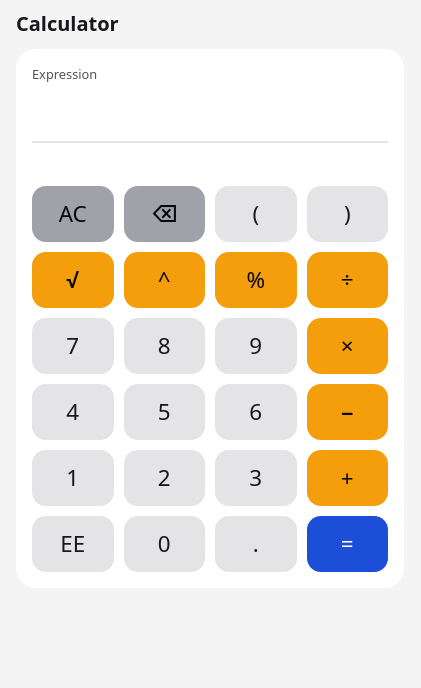
Test: calculation with the keypad › subtract: 10−4
Expected: the button named "equals" is shown, 306,516 -> 388,572
Step 1. Click the button "1" → [73, 478], box 32,450 -> 114,506
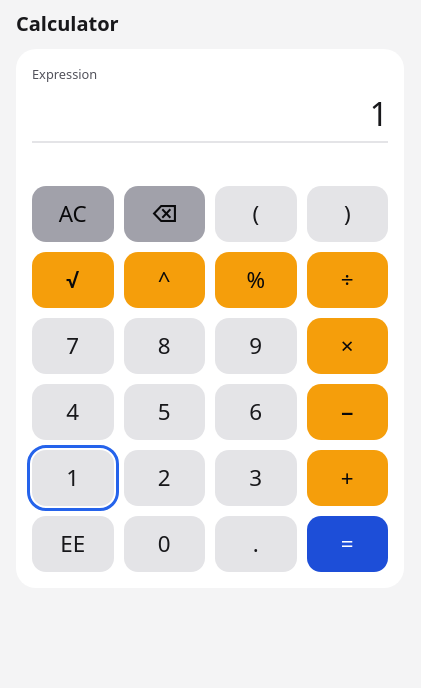
Step 2. Click the button "0" → [164, 544], box 124,516 -> 205,572
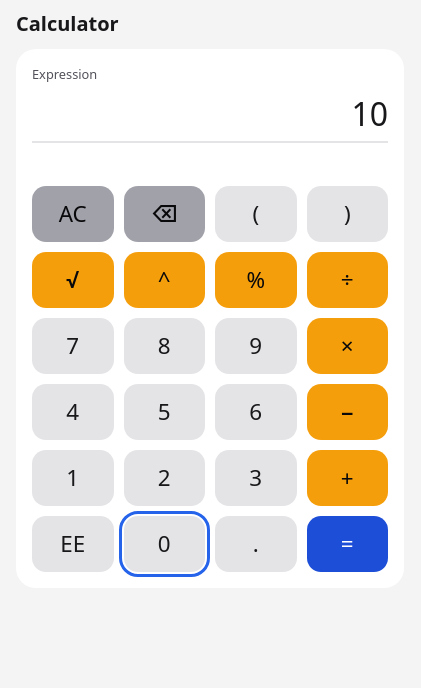
Step 3. Click the button named "minus" → [347, 412], box 306,384 -> 388,440
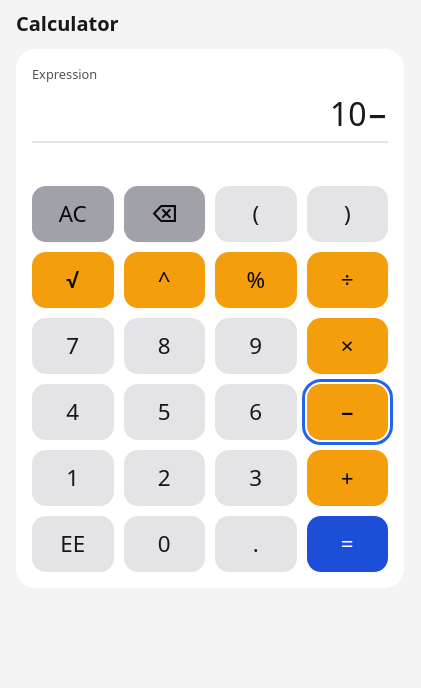
Step 4. Click the button "4" → [73, 412], box 32,384 -> 114,440
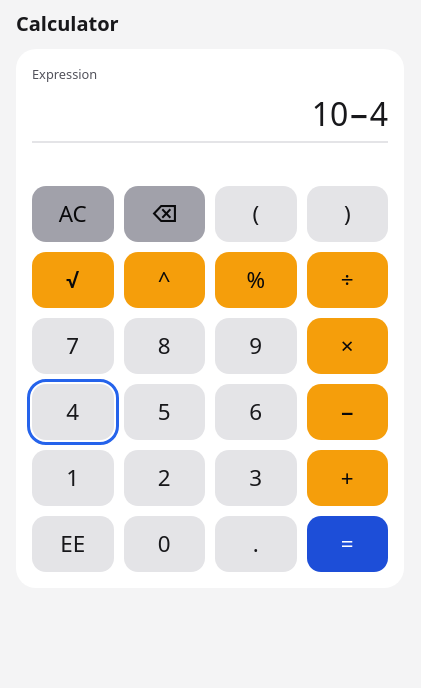
Expected: the field labelled "Expression" holds "10−4", 32,87 -> 388,143
Step 5. Click the button named "equals" → [347, 544], box 306,516 -> 388,572
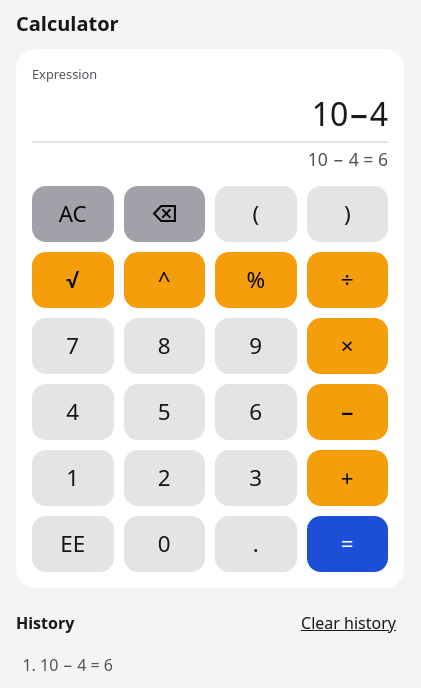
Expected: the message reads "10 − 4 = 6", 308,147 -> 388,171
